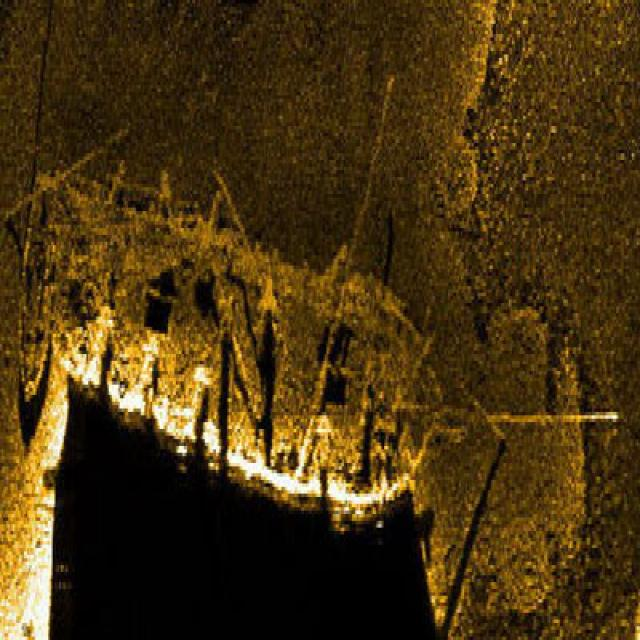ship: (29, 167, 464, 524)
